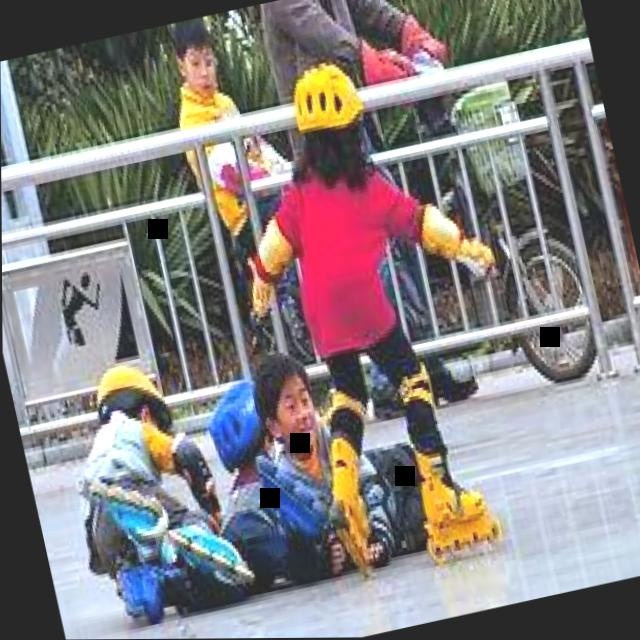Fall-Detected: (225, 297, 507, 604)
